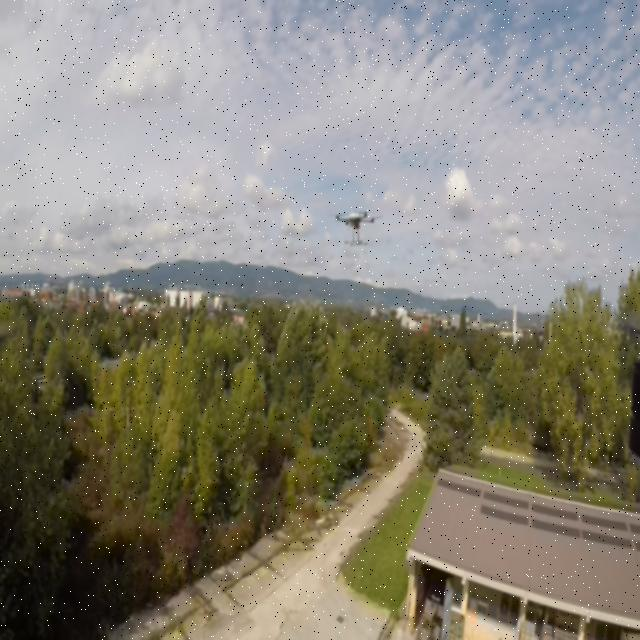UAV: (326, 202, 386, 248)
